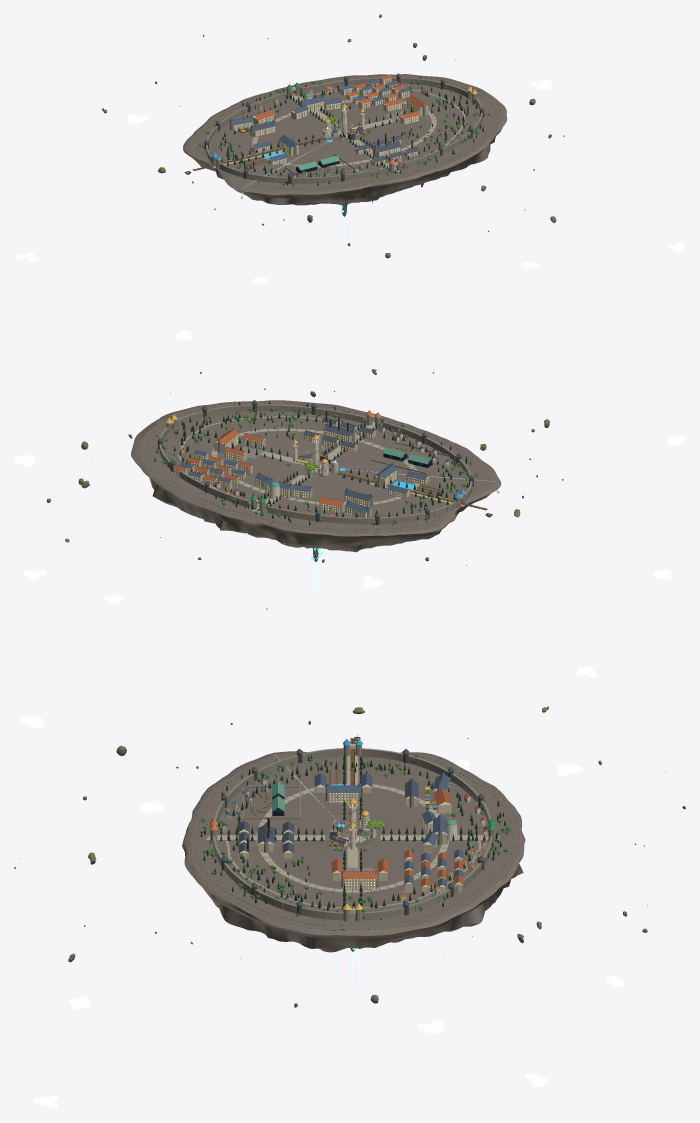
Rendered from xingcha_academy.glb.
3 views of the same model, one above another, from view 1: azimuth 30°, elevation 25°; view 2: azimuth 150°, elevation 25°; view 3: azimuth 270°, elevation 25° (orthographic). The views are drawn at different scales.
Visible parts, largest first — view 1: M_island_Island_Rock, M_city_wall_Stone_Grey, M_districts_Stone_Cream, FXM_foliage_city_veg_Cypress, M_districts_Stone_Grey, M_districts_Roof_BlueSlate, M_city_paths_Flagstone, M_districts_Roof_Terracotta, M_districts_Slate, FXM_foliage_veg_Leaf; view 2: M_island_Island_Rock, M_city_wall_Stone_Grey, M_districts_Stone_Cream, FXM_foliage_city_veg_Cypress, M_districts_Stone_Grey, M_city_paths_Flagstone, M_districts_Roof_BlueSlate, M_districts_Roof_Terracotta, M_districts_Slate, FXM_foliage_veg_Leaf, FXM_foliage_veg_Cypress, FXM_window_city_fx_FX_Window; view 3: M_island_Island_Rock, M_city_wall_Stone_Grey, M_city_paths_Flagstone, M_districts_Stone_Cream, FXM_foliage_city_veg_Cypress, M_districts_Roof_BlueSlate, M_districts_Roof_Terracotta, M_districts_Stone_Grey, M_districts_Slate, FXM_foliage_veg_Leaf, FXM_foliage_veg_Cypress.
Part boxes in pixels (x1=…): M_island_Island_Rock: x1=183, y1=74, x2=507, y2=207; M_city_wall_Stone_Grey: x1=206, y1=77, x2=482, y2=183; M_districts_Stone_Cream: x1=229, y1=77, x2=428, y2=165; FXM_foliage_city_veg_Cypress: x1=220, y1=84, x2=468, y2=176; M_districts_Stone_Grey: x1=229, y1=79, x2=428, y2=177; M_districts_Roof_BlueSlate: x1=229, y1=80, x2=411, y2=161; M_city_paths_Flagstone: x1=210, y1=93, x2=436, y2=172; M_districts_Roof_Terracotta: x1=253, y1=74, x2=428, y2=120; M_districts_Slate: x1=250, y1=120, x2=419, y2=162; FXM_foliage_veg_Leaf: x1=198, y1=81, x2=489, y2=182; M_island_Island_Rock: x1=131, y1=400, x2=501, y2=552; M_city_wall_Stone_Grey: x1=159, y1=404, x2=472, y2=524; M_districts_Stone_Cream: x1=174, y1=421, x2=429, y2=517; FXM_foliage_city_veg_Cypress: x1=176, y1=411, x2=455, y2=517; M_districts_Stone_Grey: x1=173, y1=422, x2=449, y2=517; M_city_paths_Flagstone: x1=211, y1=422, x2=467, y2=512; M_districts_Roof_BlueSlate: x1=180, y1=450, x2=429, y2=513; M_districts_Roof_Terracotta: x1=173, y1=428, x2=345, y2=506; M_districts_Slate: x1=303, y1=417, x2=375, y2=501; FXM_foliage_veg_Leaf: x1=155, y1=404, x2=477, y2=524; FXM_foliage_veg_Cypress: x1=154, y1=401, x2=470, y2=525; FXM_window_city_fx_FX_Window: x1=175, y1=422, x2=423, y2=517; M_island_Island_Rock: x1=182, y1=751, x2=525, y2=952; M_city_wall_Stone_Grey: x1=210, y1=745, x2=495, y2=921; M_city_paths_Flagstone: x1=206, y1=751, x2=499, y2=892; M_districts_Stone_Cream: x1=239, y1=782, x2=462, y2=892; FXM_foliage_city_veg_Cypress: x1=220, y1=753, x2=485, y2=911; M_districts_Roof_BlueSlate: x1=314, y1=772, x2=463, y2=886; M_districts_Roof_Terracotta: x1=331, y1=789, x2=463, y2=886; M_districts_Stone_Grey: x1=238, y1=781, x2=463, y2=892; M_districts_Slate: x1=238, y1=778, x2=418, y2=852; FXM_foliage_veg_Leaf: x1=200, y1=754, x2=509, y2=919; FXM_foliage_veg_Cypress: x1=200, y1=755, x2=506, y2=918.
Size of the model in its own units: 896 by 229 by 730.
